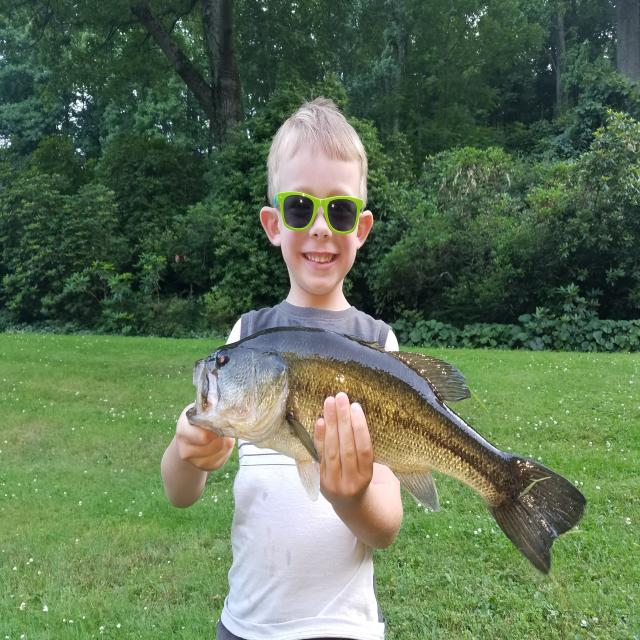Bass - Largemouth: (187, 327, 586, 574)
